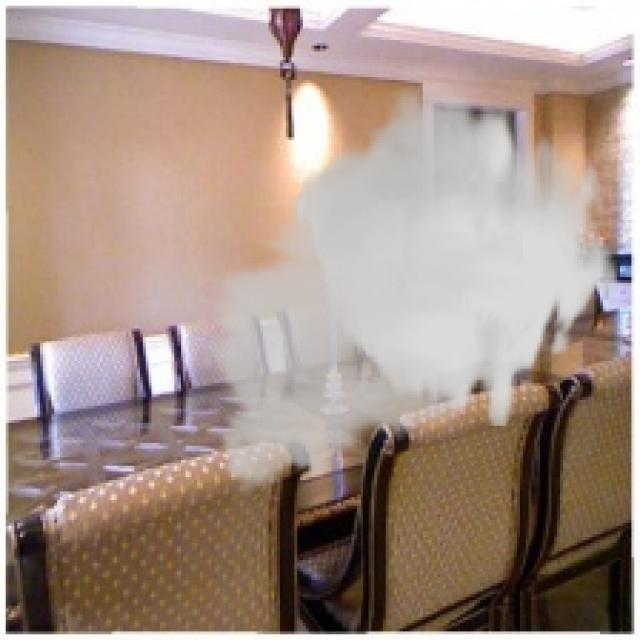smoke: (194, 86, 620, 506)
